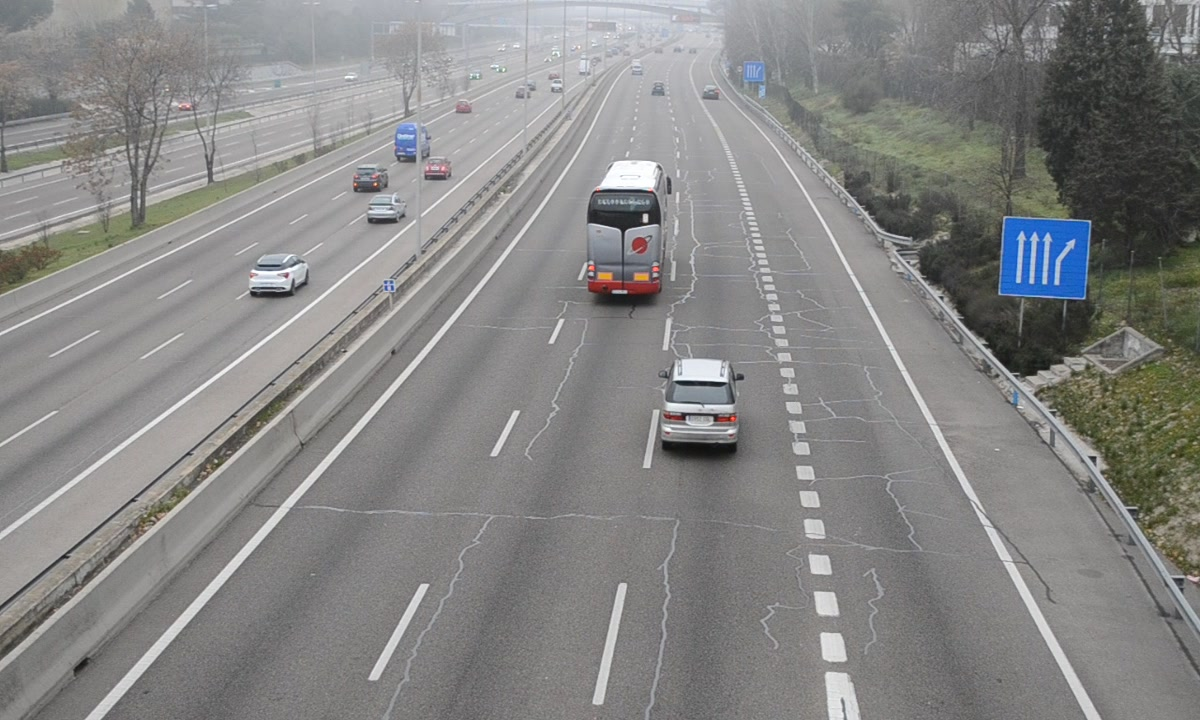bus: (585, 161, 670, 298)
car: (660, 359, 743, 449)
